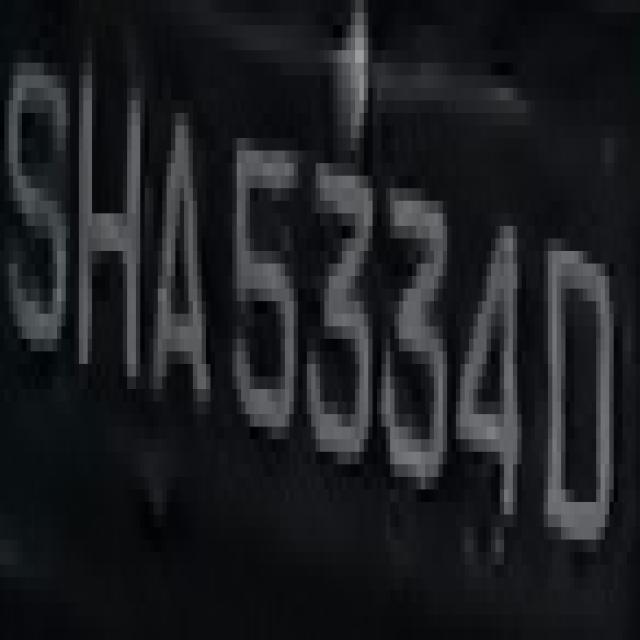3: (372, 151, 452, 527), (298, 113, 373, 489)
4: (447, 150, 539, 564)
5: (210, 113, 298, 452)
A: (153, 76, 215, 490)
D: (535, 176, 618, 615)
H: (75, 38, 149, 376)
S: (5, 12, 74, 376)
